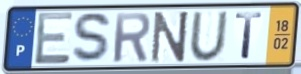E: (33, 10, 75, 67)
N: (150, 9, 191, 65)
R: (112, 11, 153, 64)
S: (70, 10, 115, 65)
T: (234, 10, 265, 60)
U: (187, 9, 230, 63)
